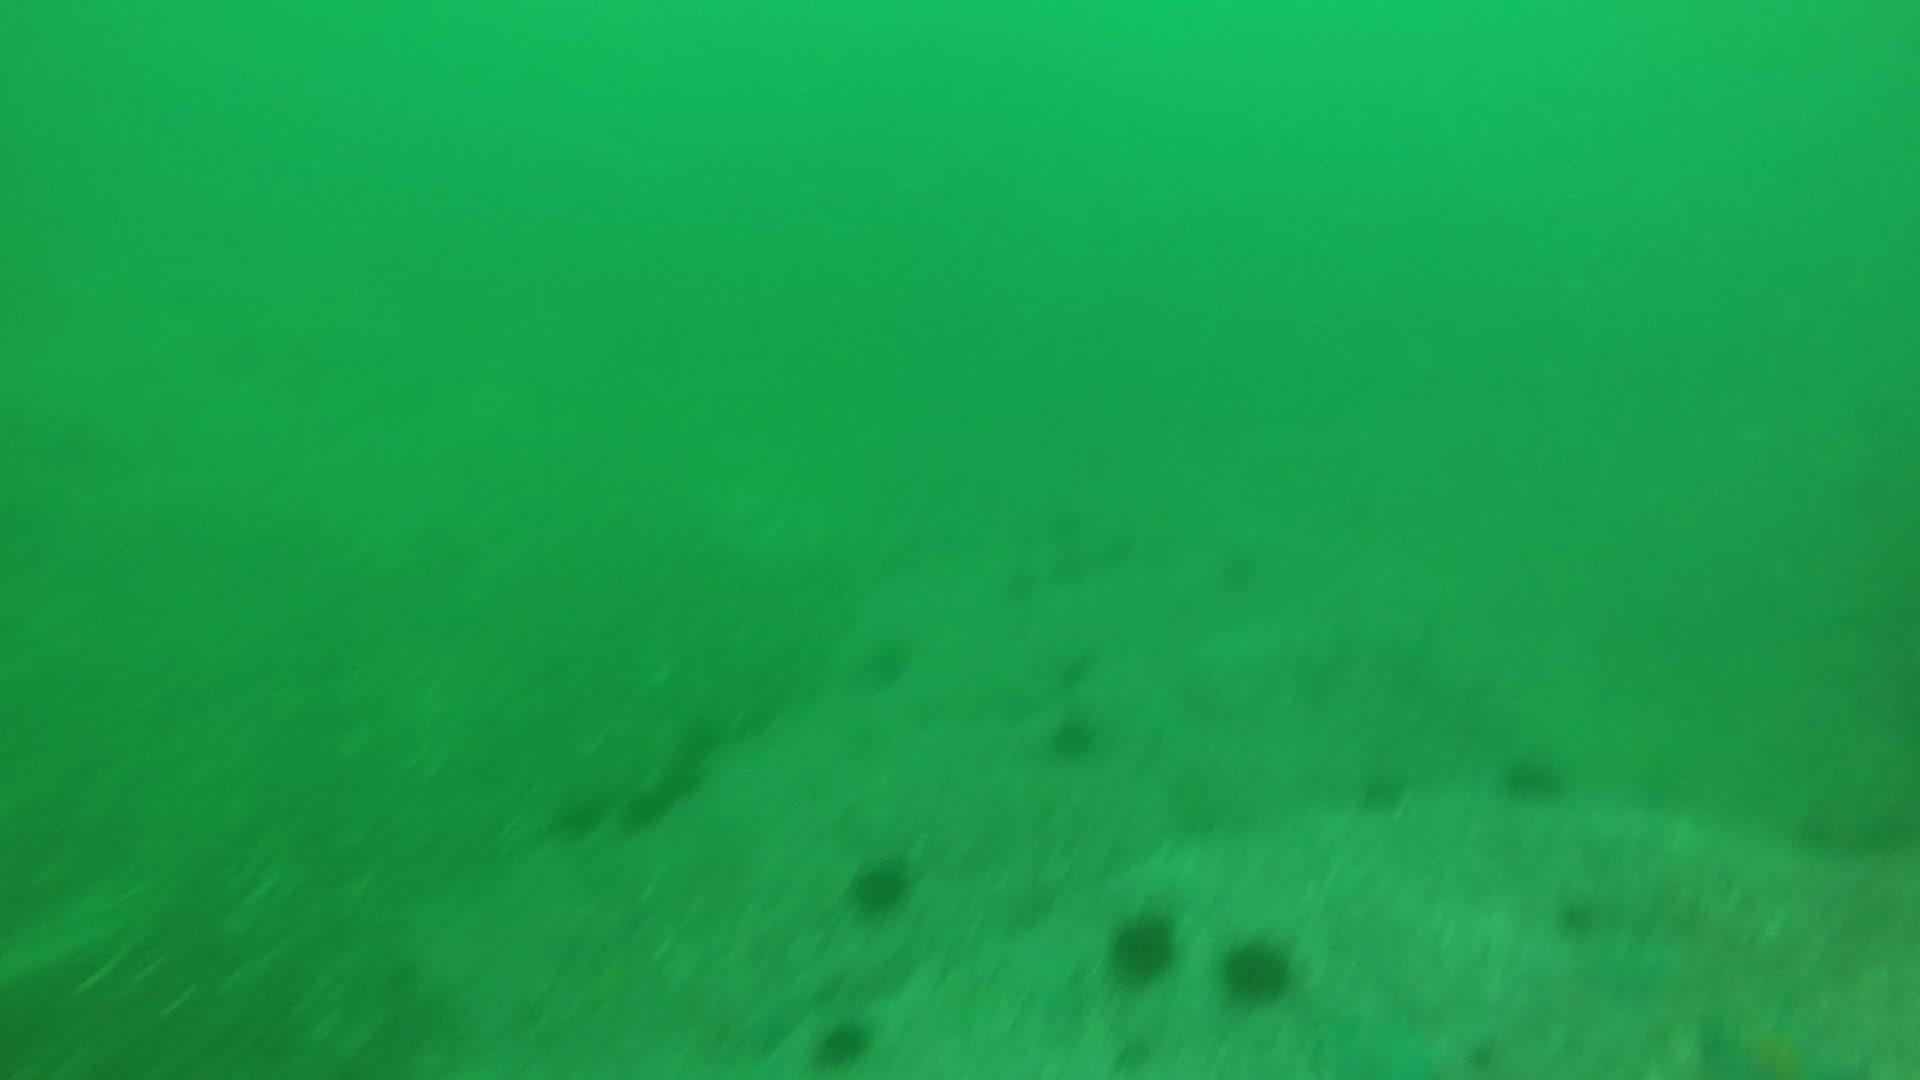echinus: (1102, 905, 1183, 986), (1216, 928, 1299, 1007), (844, 849, 918, 918), (1495, 744, 1569, 804), (810, 1013, 877, 1069), (1040, 705, 1104, 764), (1353, 761, 1414, 818), (855, 632, 915, 688), (547, 787, 608, 843), (618, 781, 674, 836), (1044, 539, 1097, 593), (1213, 541, 1265, 595), (1093, 526, 1145, 580), (985, 547, 1036, 601), (1551, 891, 1604, 943), (674, 713, 725, 766), (647, 767, 695, 804)
starfish: (1698, 998, 1855, 1075)
